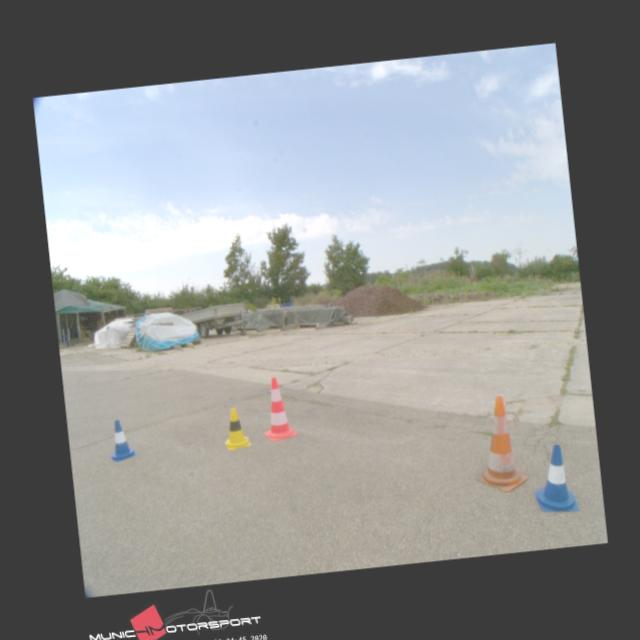blue_cone: (531, 444, 579, 516), (105, 418, 136, 460)
large_orange_cone: (467, 393, 528, 494), (258, 375, 297, 440)
yellow_cone: (220, 406, 250, 448)
